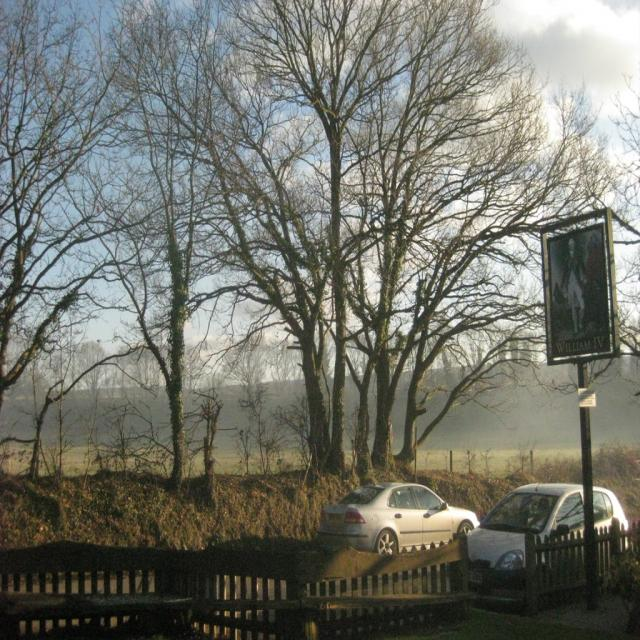other: (468, 480, 630, 606), (314, 468, 480, 554)
